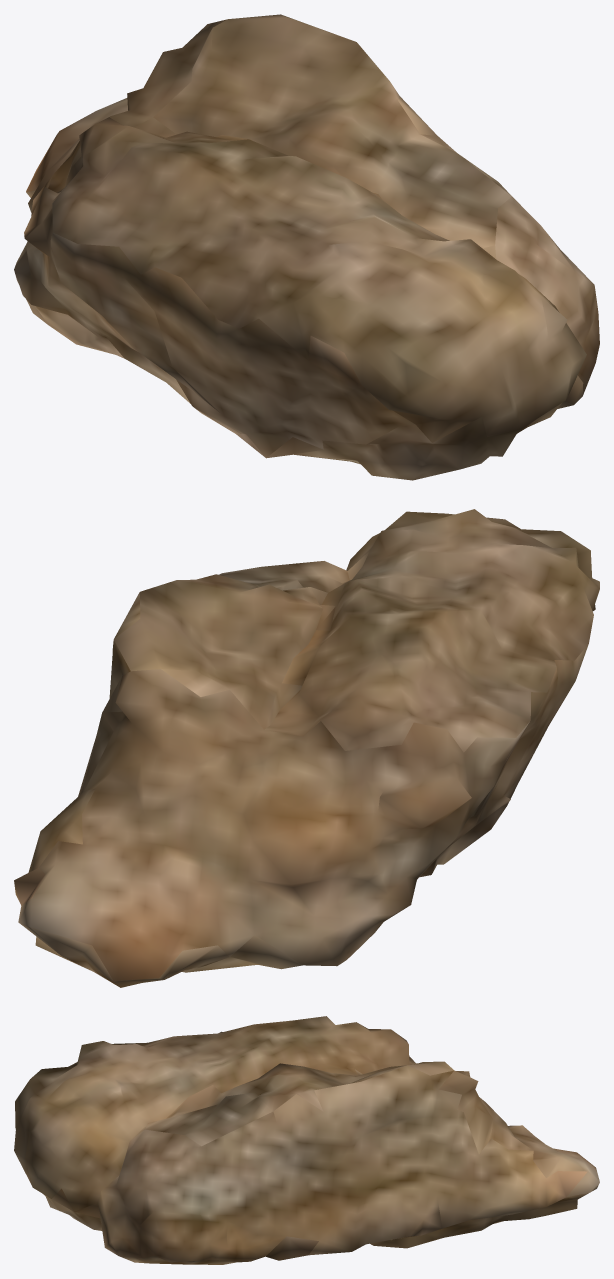
The model's file is ph_rock_2.glb.
3 renders of one model, top to bottom at view 1: azimuth 30°, elevation 25°; view 2: azimuth 150°, elevation 25°; view 3: azimuth 270°, elevation 25°, orthographic. The views are drawn at different scales.
Parts seen in each view (by area): view 1: ph_rock_2_lod1; view 2: ph_rock_2_lod1; view 3: ph_rock_2_lod1.
Boxes of the visible parts, box(x1,y1,x2,y2) form: ph_rock_2_lod1: box(14, 14, 599, 480); ph_rock_2_lod1: box(14, 509, 599, 987); ph_rock_2_lod1: box(14, 1016, 599, 1264).
Bounding box in the file's own units: 0.3403 × 0.2098 × 0.583.
1 material, 1 textured.
